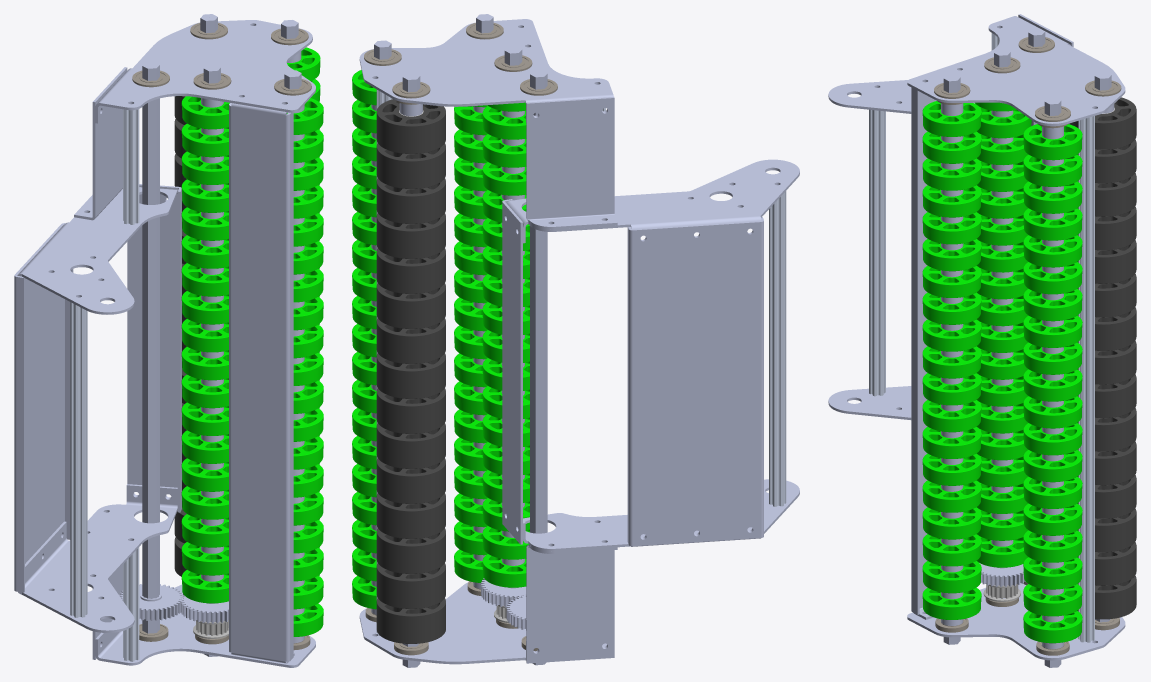
3 renders of one model, left to right at view 1: azimuth 30°, elevation 25°; view 2: azimuth 150°, elevation 25°; view 3: azimuth 270°, elevation 25°, orthographic. The views are drawn at different scales.
Parts seen in each view (by area): view 1: NAUO175, NAUO8, NAUO4, NAUO174, NAUO2, NAUO17, NAUO5, NAUO12, NAUO3, NAUO7, NAUO11, NAUO9 (+41 smaller); view 2: NAUO8, NAUO7, NAUO4, NAUO6, NAUO5, NAUO174, NAUO3, NAUO17, NAUO12, NAUO2, NAUO84, NAUO85 (+65 smaller); view 3: NAUO4, NAUO10, NAUO175, NAUO12, NAUO3, NAUO5, NAUO2, NAUO84, NAUO29, NAUO30, NAUO39, NAUO45 (+67 smaller).
Boxes of the visible parts, box(x1,y1,x2,y2) form: NAUO175: box(229, 103, 294, 663); NAUO8: box(14, 223, 73, 592); NAUO4: box(95, 20, 315, 123); NAUO174: box(127, 184, 181, 512); NAUO2: box(18, 484, 177, 632); NAUO17: box(142, 62, 159, 633); NAUO5: box(17, 187, 177, 314); NAUO12: box(70, 297, 87, 617); NAUO3: box(95, 584, 315, 667); NAUO7: box(74, 67, 127, 220); NAUO11: box(123, 104, 139, 224); NAUO9: box(123, 547, 139, 661); NAUO8: box(627, 217, 763, 546); NAUO7: box(526, 97, 617, 229); NAUO4: box(359, 19, 613, 122); NAUO6: box(526, 544, 617, 663); NAUO5: box(506, 159, 799, 243); NAUO174: box(502, 199, 522, 544); NAUO3: box(359, 582, 607, 664); NAUO17: box(530, 70, 547, 665); NAUO12: box(769, 185, 786, 506); NAUO2: box(523, 479, 799, 551); NAUO84: box(376, 99, 445, 153); NAUO85: box(376, 143, 445, 188); NAUO4: box(907, 16, 1125, 126); NAUO10: box(1078, 116, 1094, 642); NAUO175: box(911, 87, 936, 619); NAUO12: box(869, 109, 885, 396); NAUO3: box(907, 583, 1125, 660); NAUO5: box(828, 80, 974, 113); NAUO2: box(828, 386, 911, 419); NAUO84: box(1070, 97, 1136, 149); NAUO29: box(1023, 124, 1082, 160); NAUO30: box(922, 101, 981, 136); NAUO39: box(1023, 369, 1082, 401); NAUO45: box(1023, 530, 1082, 562).
Size of the model in its own units: 0.3371 by 0.5334 by 0.2643.
